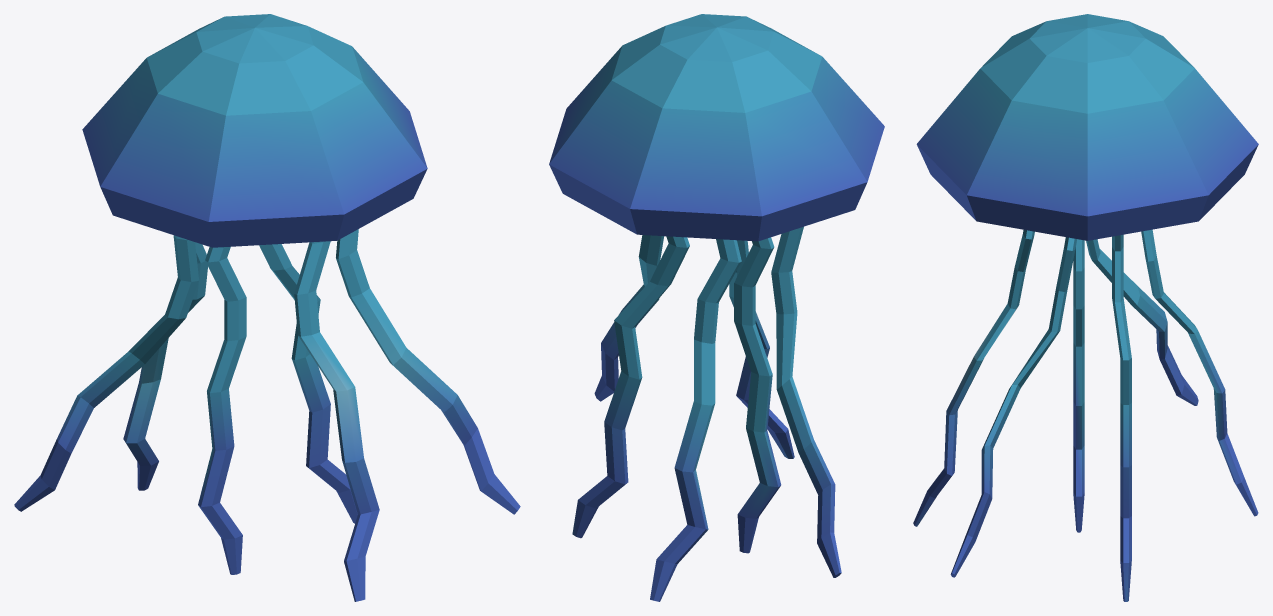
Rendered from AguaVivaGrande.fbx.
3 renders of one model, left to right at view 1: azimuth 30°, elevation 25°; view 2: azimuth 150°, elevation 25°; view 3: azimuth 270°, elevation 25°, orthographic. The views are drawn at different scales.
Parts seen in each view (by area): view 1: AguaVivaGrande; view 2: AguaVivaGrande; view 3: AguaVivaGrande.
Part boxes in pixels (x1=…): AguaVivaGrande: x1=14, y1=14, x2=520, y2=601; AguaVivaGrande: x1=549, y1=14, x2=884, y2=601; AguaVivaGrande: x1=913, y1=14, x2=1258, y2=601.
Size of the model in its own units: 242 by 328 by 199.
